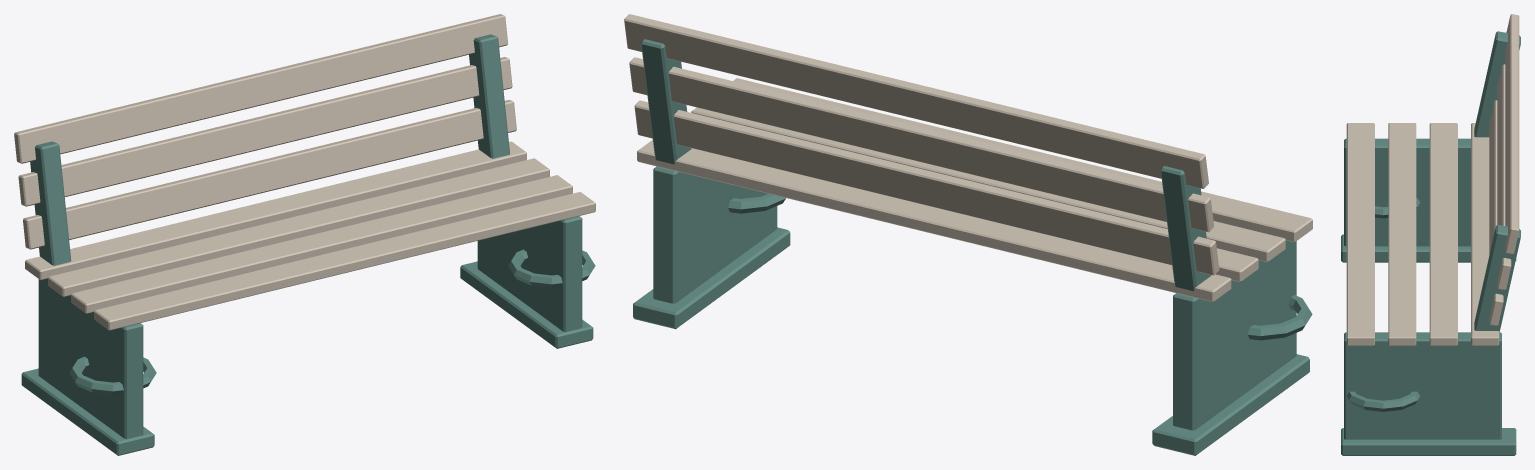
File: amusement-arcade-and-seaside-pier-pier-bench-26517ca5__35390.glb
3 renders of one model, left to right at view 1: azimuth 30°, elevation 25°; view 2: azimuth 150°, elevation 25°; view 3: azimuth 270°, elevation 25°, orthographic. The views are drawn at different scales.
Parts seen in each view (by area): view 1: pier-bench; view 2: pier-bench; view 3: pier-bench.
Part boxes in pixels (<box>): pier-bench: <box>14,14,595,455</box>; pier-bench: <box>624,14,1312,455</box>; pier-bench: <box>1341,14,1520,455</box>.
Bounding box in the file's own units: 1.9 × 0.9004 × 0.6363.
